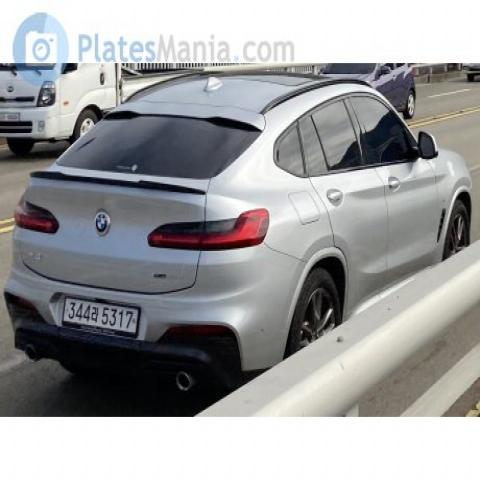LP: (51, 278, 145, 343)
